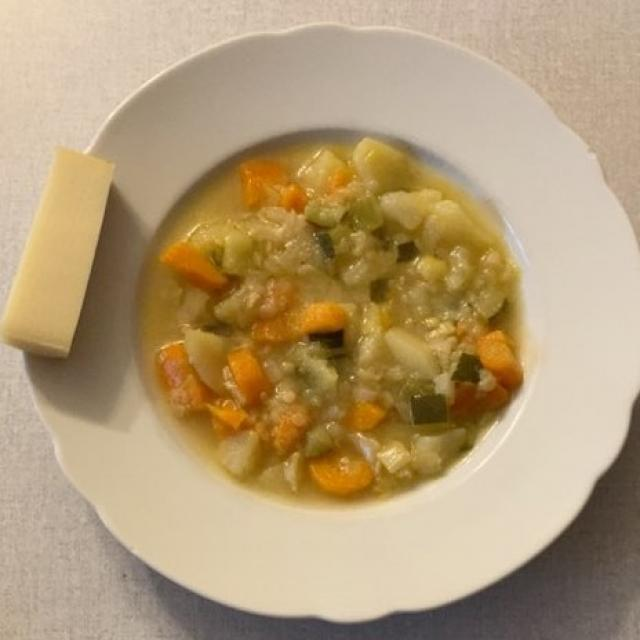soup: (152, 146, 519, 497)
